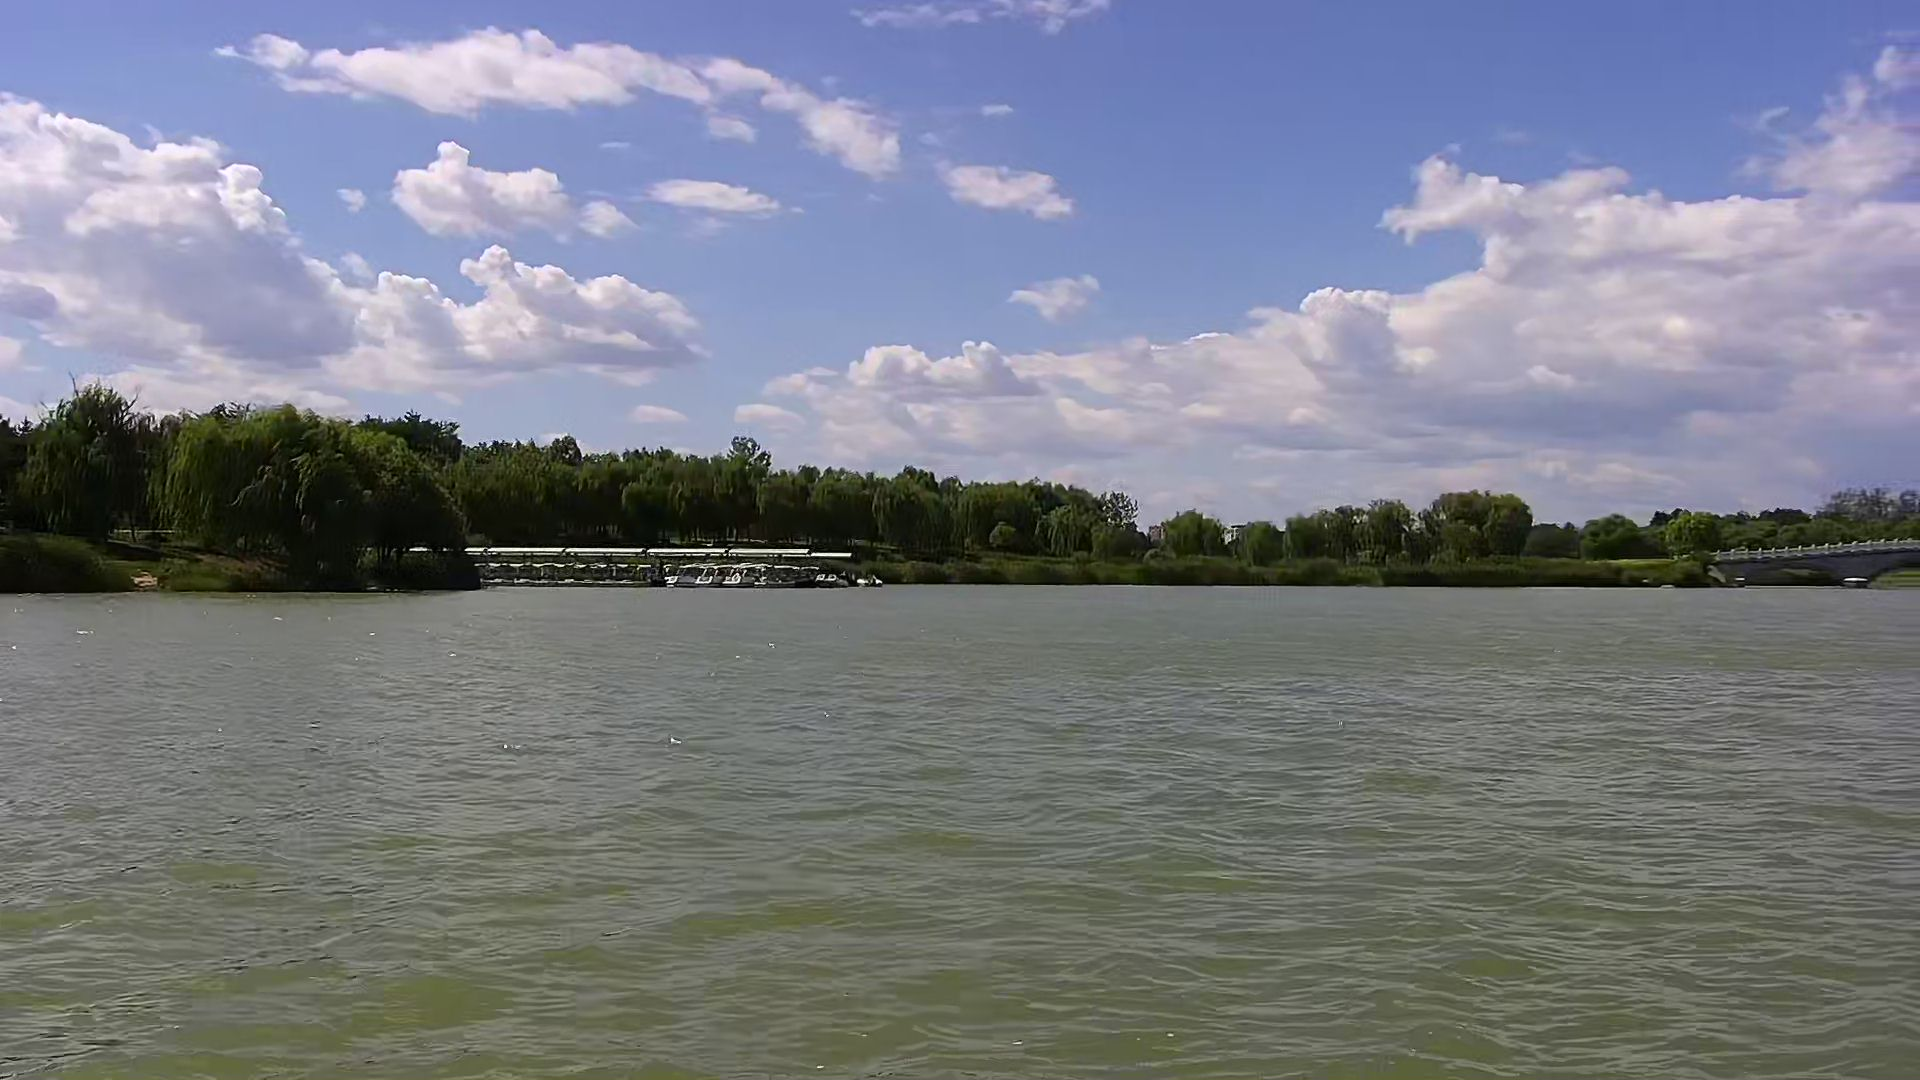bridge: (1688, 520, 1920, 593)
harbor: (472, 542, 877, 591)
